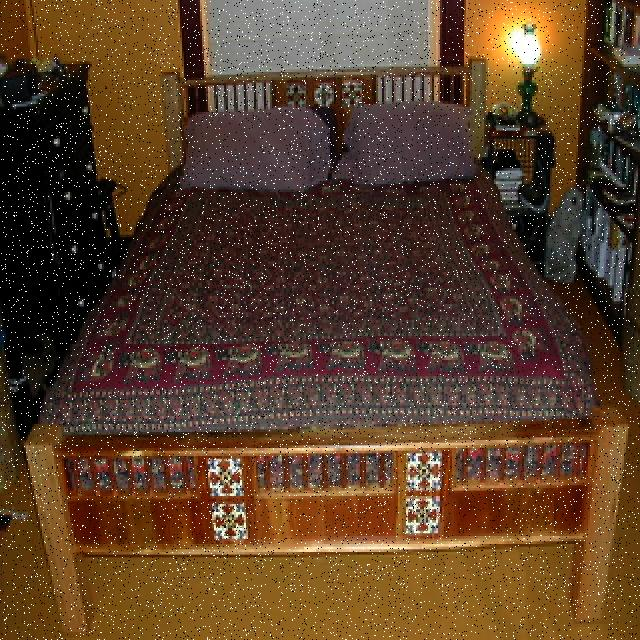bed: (36, 98, 604, 426)
